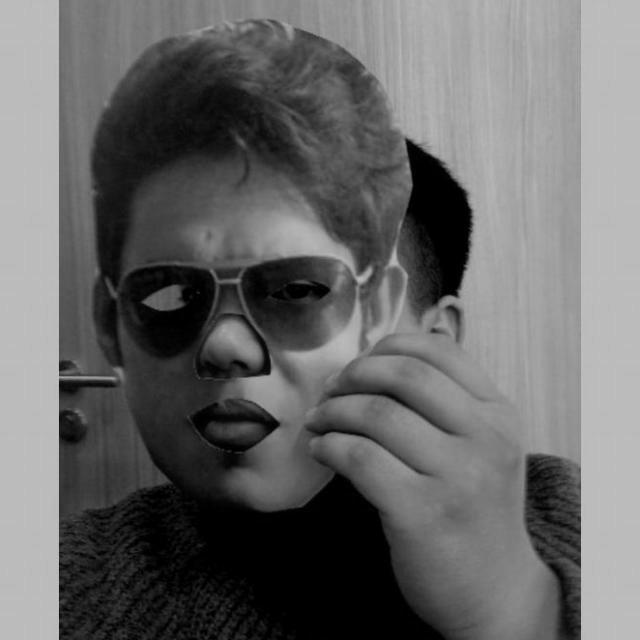fake: (81, 16, 417, 512)
